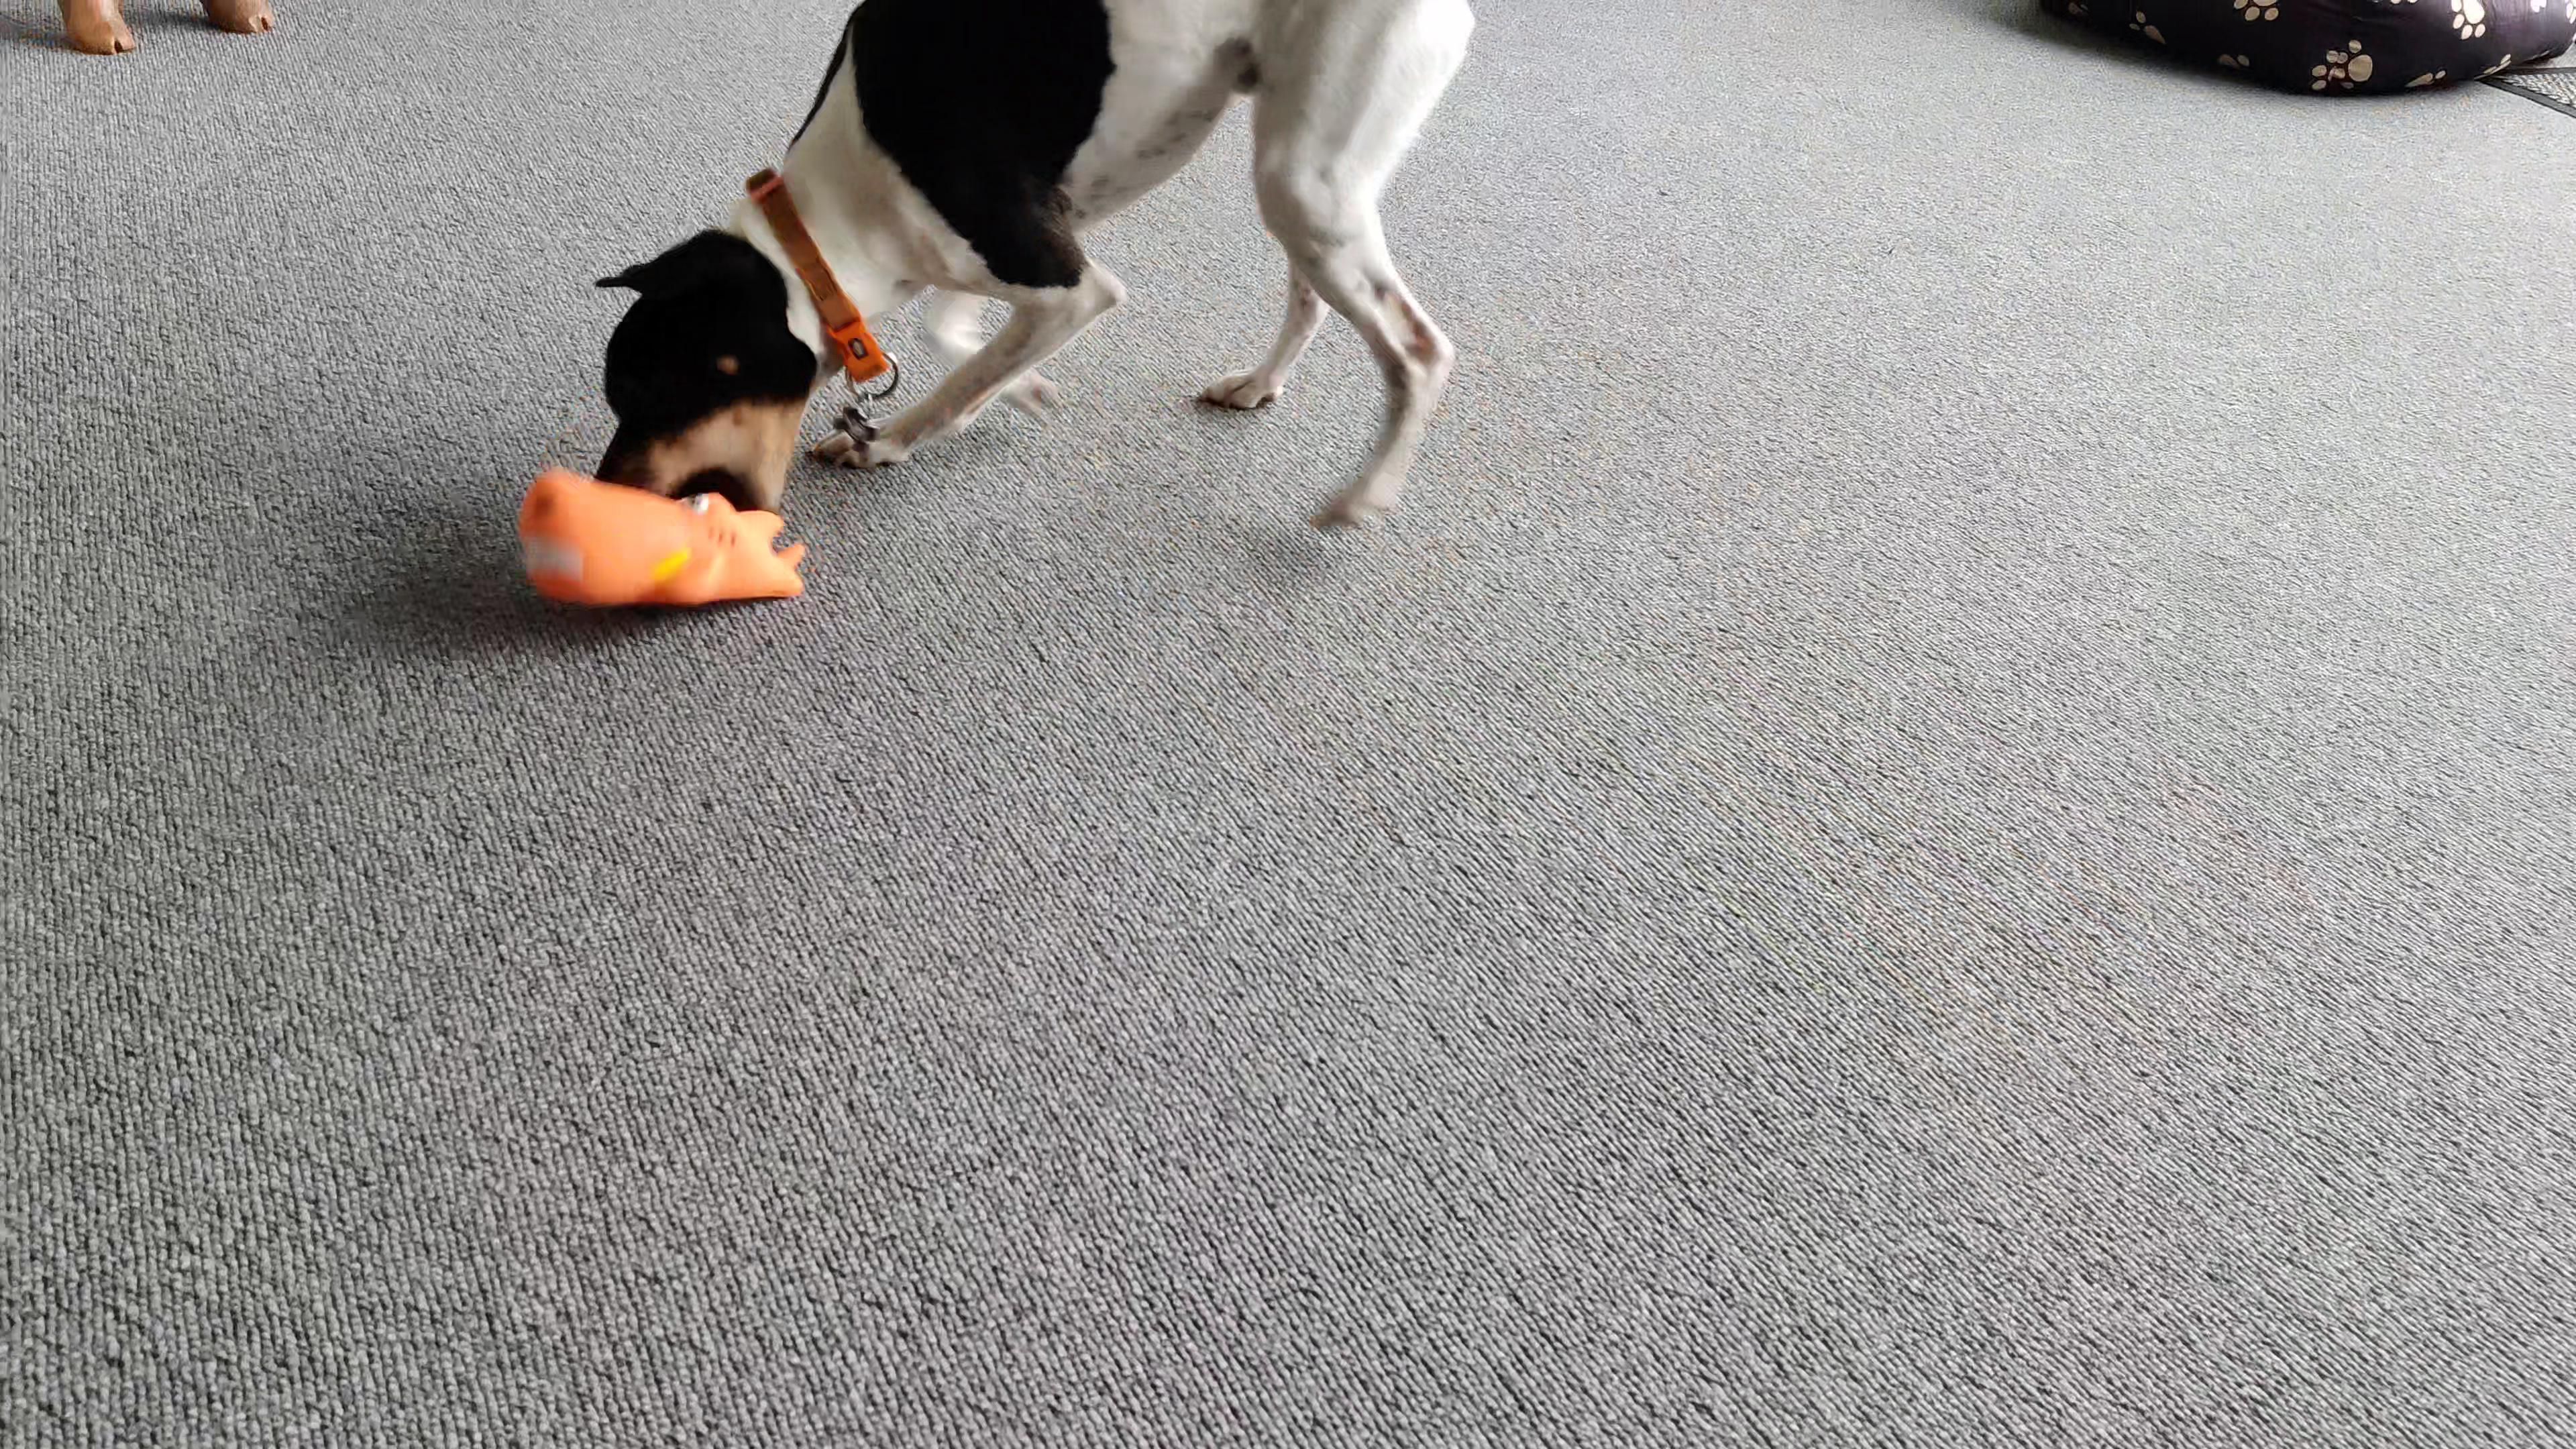Dog: (580, 0, 1491, 536)
